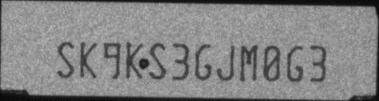0: (262, 43, 281, 82)
3: (170, 42, 189, 82), (308, 42, 326, 82)
9: (101, 40, 120, 79)
G: (286, 42, 304, 83), (193, 42, 211, 81)
J: (215, 45, 235, 82)
K: (78, 40, 98, 79), (125, 41, 144, 80)
M: (239, 43, 259, 82)
S: (54, 41, 75, 78), (148, 43, 166, 79)
